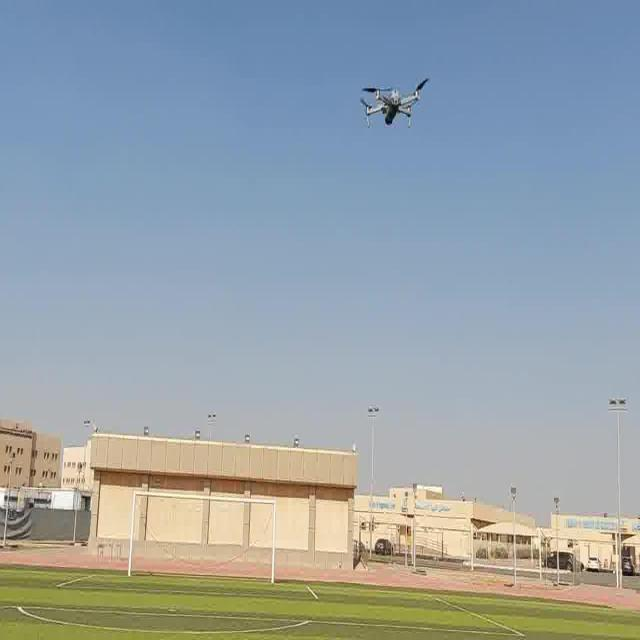drone: (359, 76, 431, 130)
